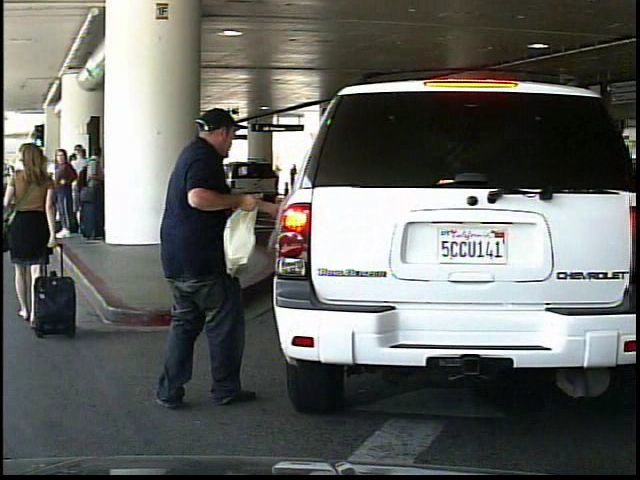person: (148, 106, 281, 410), (7, 137, 63, 332)
